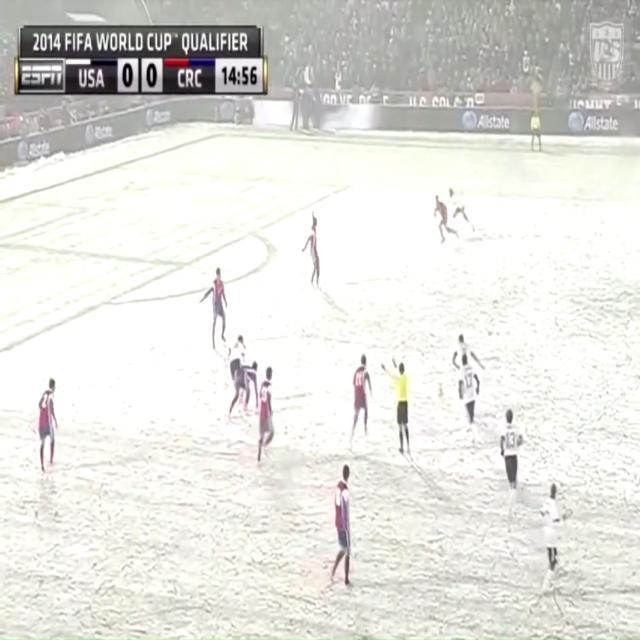ball: (437, 384, 448, 404)
player: (332, 462, 366, 600), (492, 394, 532, 508), (538, 484, 570, 611), (30, 383, 69, 484), (204, 262, 234, 362), (457, 353, 488, 448), (351, 350, 379, 453), (302, 206, 331, 299), (257, 359, 279, 465), (447, 179, 478, 243), (225, 332, 247, 422), (242, 355, 265, 437), (430, 193, 458, 256), (453, 329, 488, 377)
referee: (381, 351, 420, 469), (524, 110, 552, 159)
